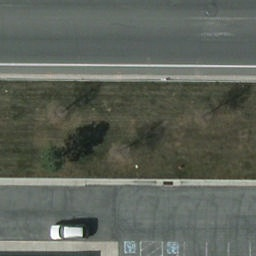car: (50, 223, 91, 241)
